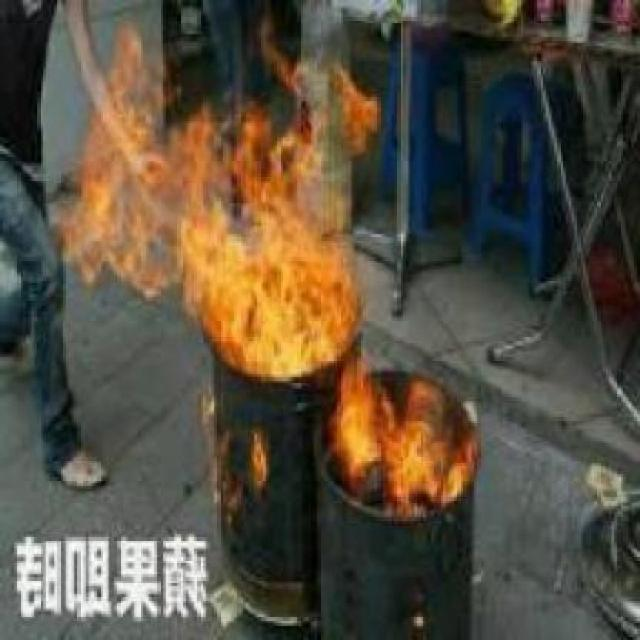Fire: (54, 17, 377, 374), (331, 354, 478, 508)
